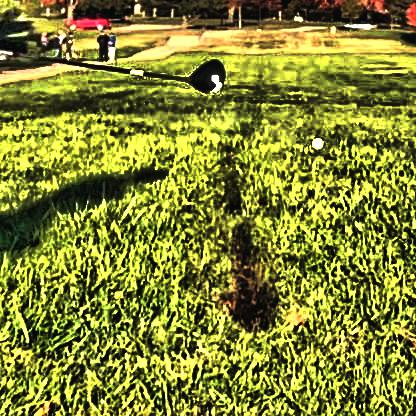golfball: (307, 133, 321, 147)
